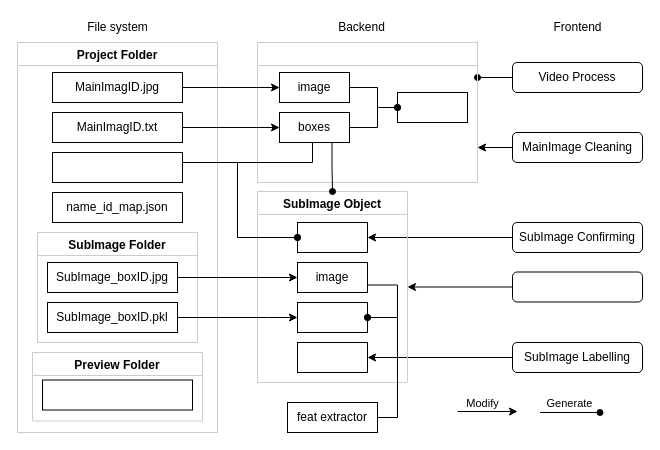
Image size: 660x450. Some labels were removed from this diagram. The box of each missing label's shape, as (x1, y1, x2, y2) in pixels:
confirm status: (296, 222, 368, 252)
Delete SubImage: (512, 271, 642, 302)
feat: (296, 302, 368, 332)
label: (296, 342, 368, 372)
MainImage Object: (256, 42, 478, 182)
MainImageID.json: (52, 152, 182, 182)
MainImageID_preview.jpg: (42, 379, 192, 410)
preview: (396, 92, 468, 122)
